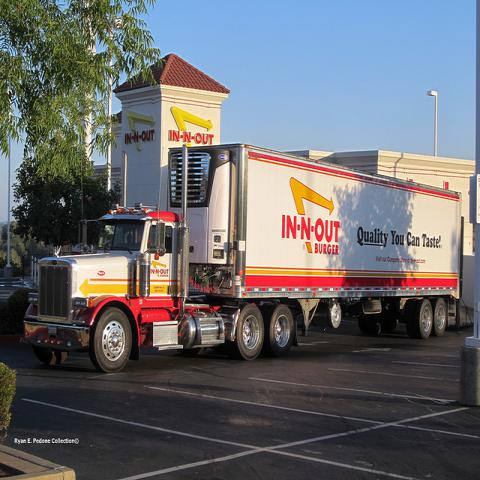truck: (20, 143, 460, 373)
